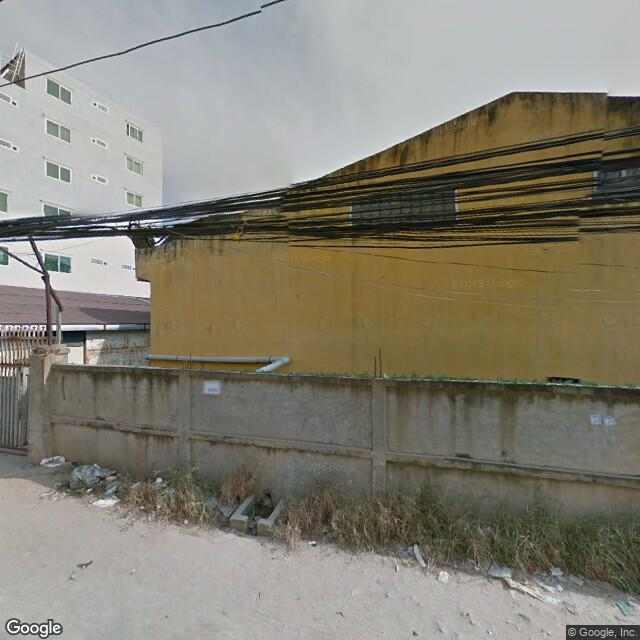litter: (476, 553, 572, 607), (69, 458, 131, 510), (394, 535, 432, 573), (35, 444, 67, 472), (611, 591, 632, 616), (305, 531, 322, 550), (438, 566, 451, 585)
